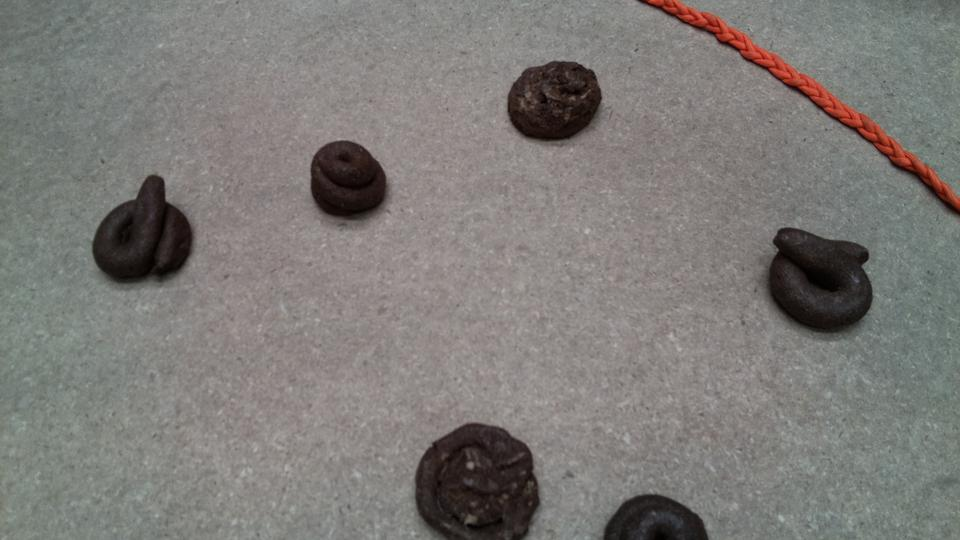poop: (413, 420, 541, 540), (766, 224, 876, 337), (90, 173, 194, 286), (506, 58, 604, 143), (308, 138, 388, 219), (601, 493, 709, 540)
rope: (658, 1, 960, 203)
